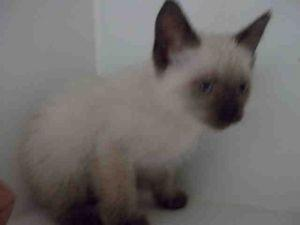siamese: (142, 1, 277, 148)
